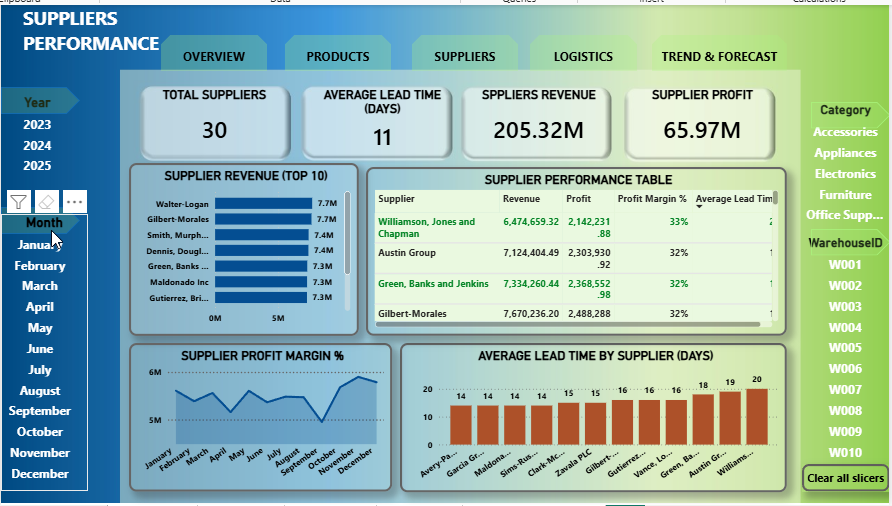

Layout of this report page (visuals, bound fields, positions):
{"tool":"powerbi","page":{"name":"Suppliers","canvas":[1280,720],"ordinal":2},"visuals":[{"type":"textbox","box":[32.2,0,257.6,71.7],"z":0},{"type":"actionButton","box":[230.4,43,152.6,51.8],"z":1000},{"type":"actionButton","box":[409,43,152.6,51.8],"z":2000},{"type":"actionButton","box":[591.8,43,152.6,51.8],"z":3000},{"type":"actionButton","box":[761.8,43,154.1,51.8],"z":4000},{"type":"actionButton","box":[937.4,43,194.4,51.8],"z":5000},{"type":"listSlicer","fields":{"Values":["DimDATE.Year"]},"box":[0,128.2,105.1,149.8],"z":6000},{"type":"shape","box":[0,118.1,113.8,38.9],"z":7000},{"type":"shape","box":[0,290.9,113.8,38.9],"z":8000},{"type":"listSlicer","fields":{"Values":["DimDATE.Month"]},"box":[0,301,125.3,398.9],"z":9000},{"type":"listSlicer","fields":{"Values":["DimProduct.Category"]},"box":[1154.1,139,125.9,221],"z":10000},{"type":"listSlicer","fields":{"Values":["DimWarehouse.WarehouseID"]},"box":[1154.1,330.7,125.9,370.2],"z":11000},{"type":"shape","box":[1165.9,139,114.1,38],"z":12000},{"type":"shape","box":[1165.9,322,114.1,38],"z":13000},{"type":"actionButton","box":[1154.1,661.5,125.9,39.5],"z":14000},{"type":"cardVisual","title":"TOTAL SUPPLIERS","fields":{"Data":["DimSupplier.Total Suppliers"]},"box":[205.9,118.1,203,96.5],"z":15000},{"type":"cardVisual","title":"AVERAGE LEAD TIME (DAYS)","fields":{"Data":["DimSupplier.Average Lead Time"]},"box":[447.8,118.1,203,96.5],"z":16000},{"type":"cardVisual","title":"SPPLIERS REVENUE","fields":{"Data":["DimSupplier.Supplier Revenue"]},"box":[685.4,118.1,178.6,96.5],"z":17000},{"type":"cardVisual","title":"SUPPLIER PROFIT","fields":{"Data":["DimSupplier.Supplier Profit"]},"box":[925.9,118.1,168.5,96.5],"z":18000},{"type":"barChart","title":"SUPPLIER REVENUE (TOP 10)","fields":{"Category":["DimSupplier.SupplierName"],"Y":["DimSupplier.Supplier Revenue"]},"box":[184.4,226.8,330.7,248.8],"z":19000},{"type":"columnChart","title":"AVERAGE LEAD TIME BY SUPPLIER (DAYS)","fields":{"Category":["DimSupplier.SupplierName"],"Y":["DimSupplier.Average Lead Time"]},"box":[575.1,486.6,557.4,215.3],"z":20000},{"type":"lineChart","title":"SUPPLIER PROFIT MARGIN %","fields":{"Y":["DimSupplier.Supplier Profit"],"Category":["DimDATE.Month"]},"box":[184.4,487.3,379,213.7],"z":21000},{"type":"tableEx","title":"SUPPLIER PERFORMANCE TABLE","fields":{"Values":["DimSupplier.SupplierName","DimSupplier.Supplier Revenue","DimSupplier.Supplier Profit","FactSupplyChain.Profit Margin %","DimSupplier.Average Lead Time"]},"box":[525.6,233.3,606.2,243.4],"z":22000}]}

Visuals, with their boxes on the page's 1280x720 design canvas (x1, y1, x2, y2). These are canvas units, not pixel positions in the 892x506 screenshot, which may show the page scaled, cropped or inside an application window:
textbox: (left=32, top=0, right=290, bottom=72)
actionButton: (left=230, top=43, right=383, bottom=95)
actionButton: (left=409, top=43, right=562, bottom=95)
actionButton: (left=592, top=43, right=744, bottom=95)
actionButton: (left=762, top=43, right=916, bottom=95)
actionButton: (left=937, top=43, right=1132, bottom=95)
listSlicer - DimDATE.Year: (left=0, top=128, right=105, bottom=278)
shape: (left=0, top=118, right=114, bottom=157)
shape: (left=0, top=291, right=114, bottom=330)
listSlicer - DimDATE.Month: (left=0, top=301, right=125, bottom=700)
listSlicer - DimProduct.Category: (left=1154, top=139, right=1280, bottom=360)
listSlicer - DimWarehouse.WarehouseID: (left=1154, top=331, right=1280, bottom=701)
shape: (left=1166, top=139, right=1280, bottom=177)
shape: (left=1166, top=322, right=1280, bottom=360)
actionButton: (left=1154, top=662, right=1280, bottom=701)
"TOTAL SUPPLIERS" cardVisual: (left=206, top=118, right=409, bottom=215)
"AVERAGE LEAD TIME (DAYS)" cardVisual: (left=448, top=118, right=651, bottom=215)
"SPPLIERS REVENUE" cardVisual: (left=685, top=118, right=864, bottom=215)
"SUPPLIER PROFIT" cardVisual: (left=926, top=118, right=1094, bottom=215)
"SUPPLIER REVENUE (TOP 10)" barChart: (left=184, top=227, right=515, bottom=476)
"AVERAGE LEAD TIME BY SUPPLIER (DAYS)" columnChart: (left=575, top=487, right=1132, bottom=702)
"SUPPLIER PROFIT MARGIN %" lineChart: (left=184, top=487, right=563, bottom=701)
"SUPPLIER PERFORMANCE TABLE" tableEx: (left=526, top=233, right=1132, bottom=477)
